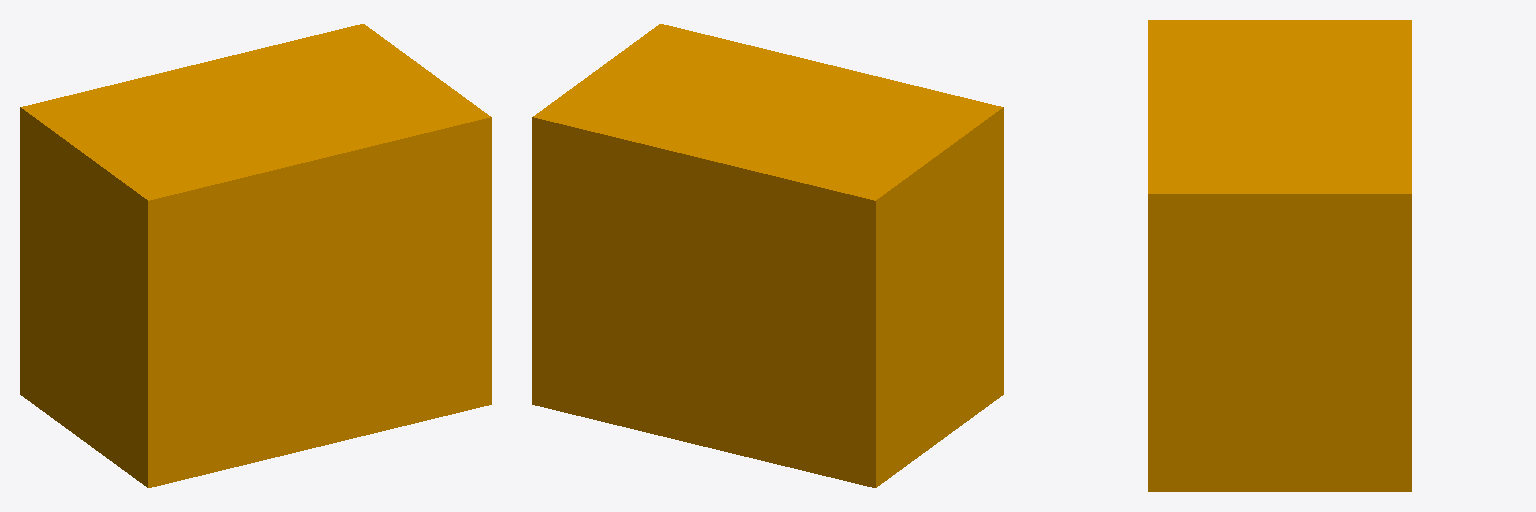
The robot description file, URDF, robot "chopped_almond":
<?xml version="1.0"?>
<robot name="chopped_almond">
  <link name="chopped_almond">
    <inertial>
        <origin rpy="0 0 0" xyz="0 0 0"/>
        <mass value="0.001"/>
        <inertia ixx="2e-5" ixy="0" ixz="0" iyy="2e-5" iyz="0" izz="2e-5"/>
    </inertial>
    <visual>
      <geometry>
        <mesh filename="ChoppedAlmond.obj"/>
      </geometry>
    </visual>
    <collision>
      <geometry>
        <mesh filename="ChoppedAlmond.obj"/>
      </geometry>
    </collision>
  </link>
</robot>

--- What the picture shows (computed from the rendered views, not written in the file) ---
The picture shows the robot from 3 angles, left to right: view 1: azimuth 30°, elevation 25°; view 2: azimuth 150°, elevation 25°; view 3: azimuth 270°, elevation 25°; orthographic projection.
Robot: chopped_almond — 1 links, 0 joints (none); root link chopped_almond; default pose: every joint at zero.
Visible links, largest first — view 1: chopped_almond; view 2: chopped_almond; view 3: chopped_almond.
Link boxes in pixels (box(x1,y1,x2,y2)): chopped_almond: box(20, 24, 491, 487); chopped_almond: box(532, 24, 1003, 487); chopped_almond: box(1148, 20, 1411, 491).
Size in the robot's own frame: 0.0116 by 0.0075 by 0.0093 metres.
1 mesh visuals loaded from 1 distinct referenced files (1 OBJ).
